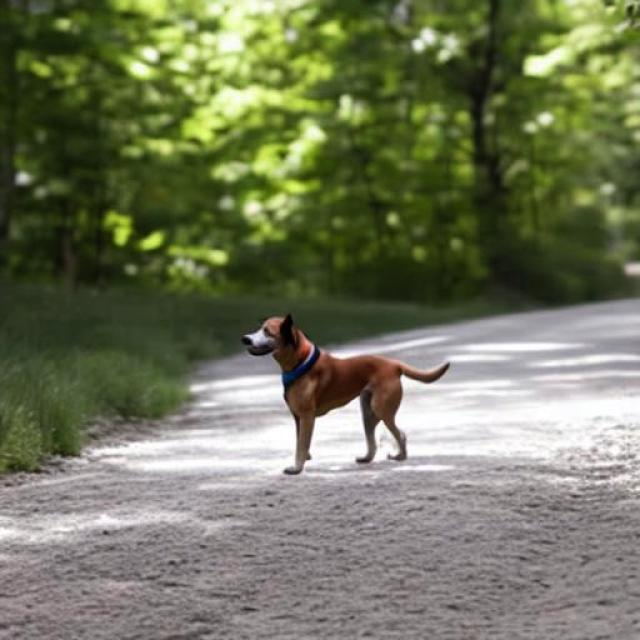Dog: (241, 312, 451, 473)
